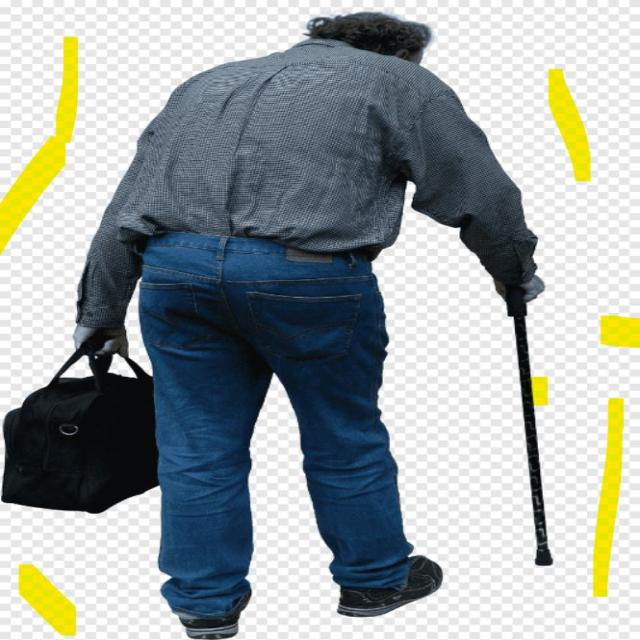idoso em pe: (74, 21, 494, 635)
